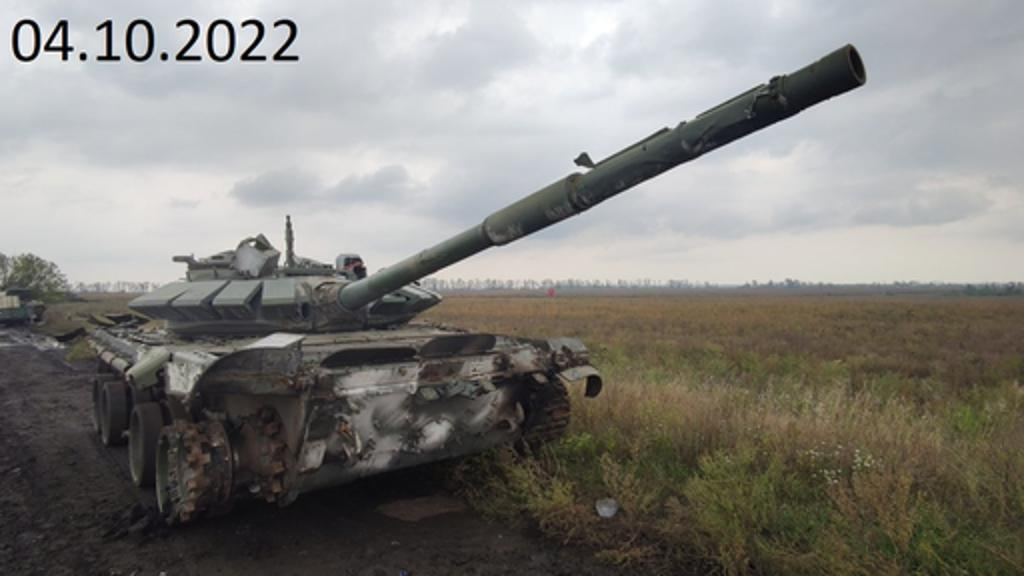TANK: (74, 32, 872, 536)
